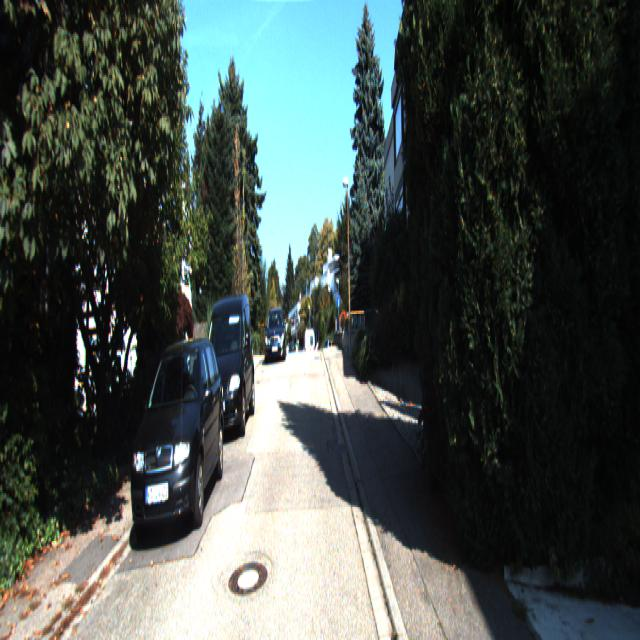Car: (129, 336, 225, 544), (198, 288, 256, 442), (264, 307, 287, 364)
